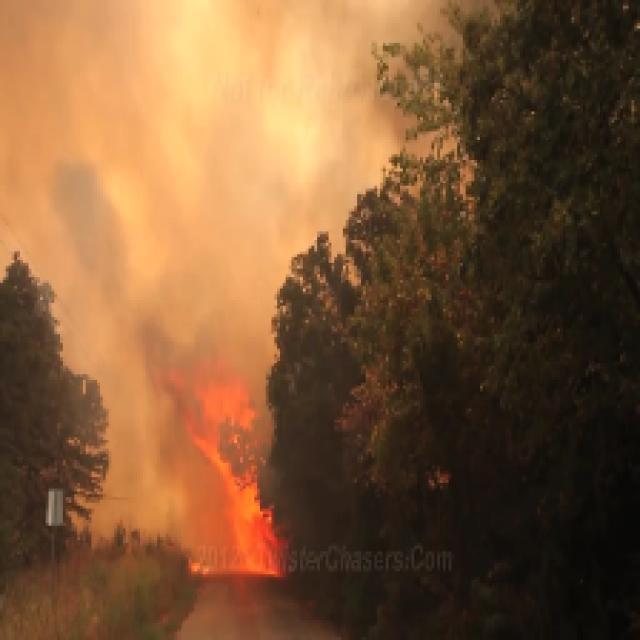Fire: (148, 352, 303, 617)
Smoke: (0, 0, 489, 357)
